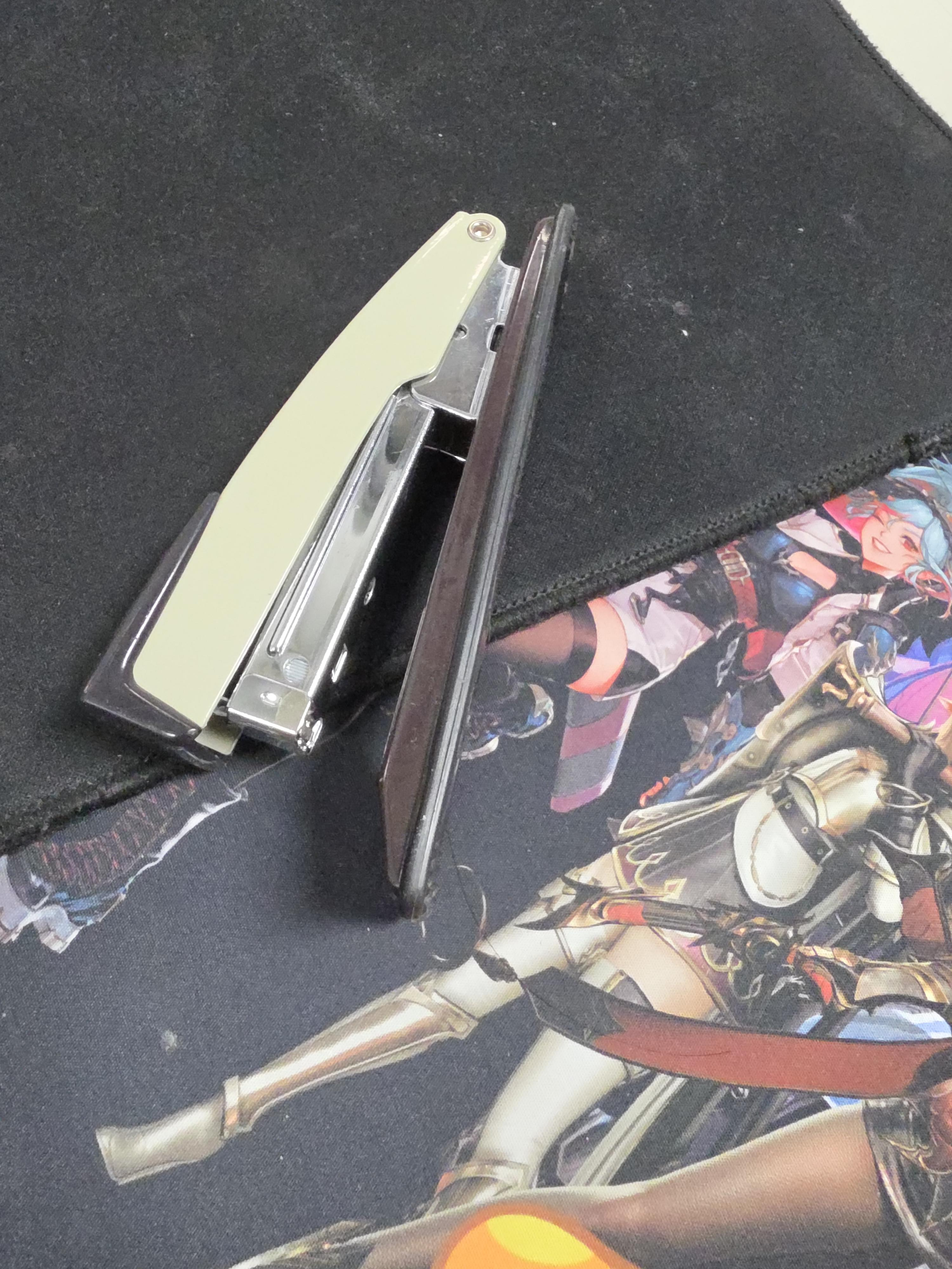stapler: (78, 203, 575, 921)
